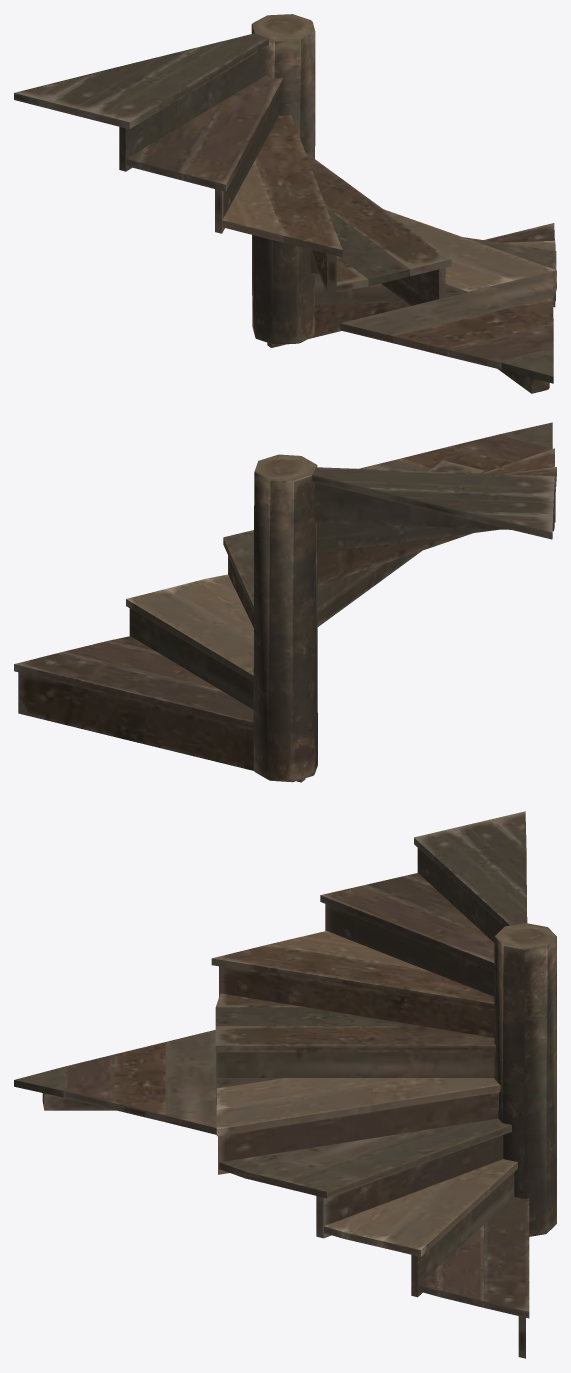
The model's file is stairs.triangle.spiral.frontier.glb.
The picture shows the model from 3 angles, top to bottom: view 1: azimuth 30°, elevation 25°; view 2: azimuth 150°, elevation 25°; view 3: azimuth 270°, elevation 25°; orthographic projection. The views are drawn at different scales.
Parts seen in each view (by area): view 1: stairs.triangle.spiral_LOD0; view 2: stairs.triangle.spiral_LOD0; view 3: stairs.triangle.spiral_LOD0.
Boxes of the visible parts, x1=… form: stairs.triangle.spiral_LOD0: x1=14, y1=14, x2=556, y2=393; stairs.triangle.spiral_LOD0: x1=14, y1=422, x2=556, y2=782; stairs.triangle.spiral_LOD0: x1=14, y1=811, x2=556, y2=1358.
Bounding box in the file's own units: 2.8 × 1.55 × 2.56.
1 material, 1 textured.
